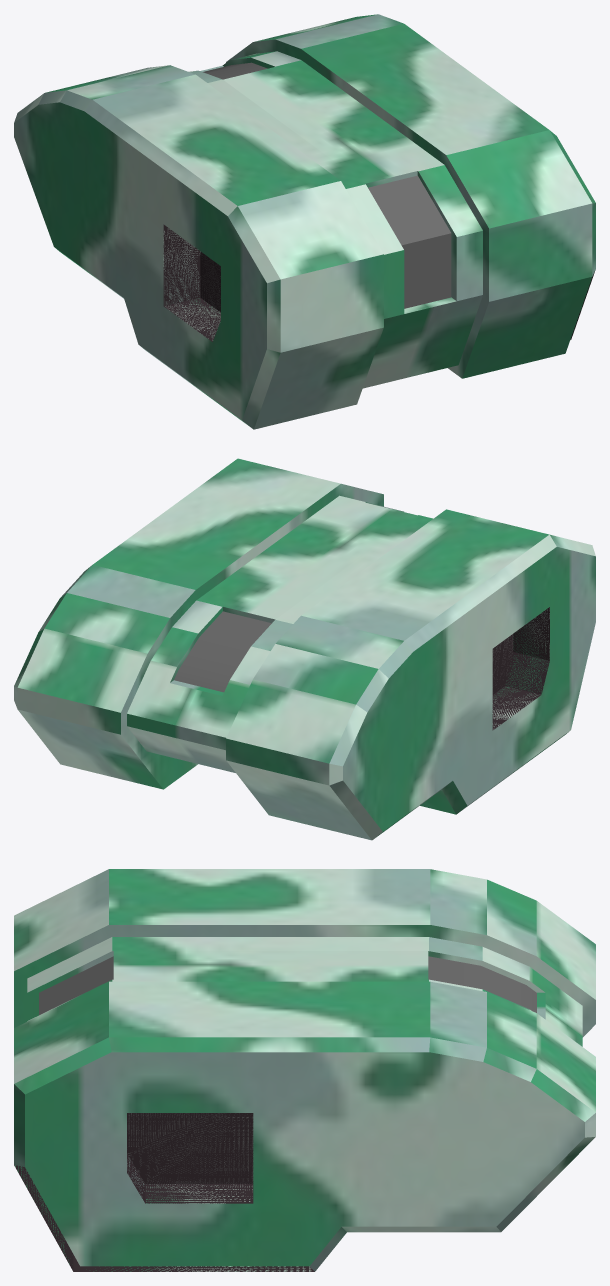
Rendered from luoRobot1MiddleBody.dae.
3 renders of one model, top to bottom at view 1: azimuth 30°, elevation 25°; view 2: azimuth 150°, elevation 25°; view 3: azimuth 270°, elevation 25°, orthographic. The views are drawn at different scales.
Parts seen in each view (by area): view 1: SketchUp (×7); view 2: SketchUp (×6); view 3: SketchUp (×7).
Part boxes in pixels (box(x1,y1,x2,y2)): SketchUp (×7): box(14, 14, 595, 429); SketchUp (×6): box(14, 458, 595, 840); SketchUp (×7): box(14, 869, 595, 1271).
Size of the model in its own units: 81.62 by 113 by 50.23.
5 materials, 1 textured.
